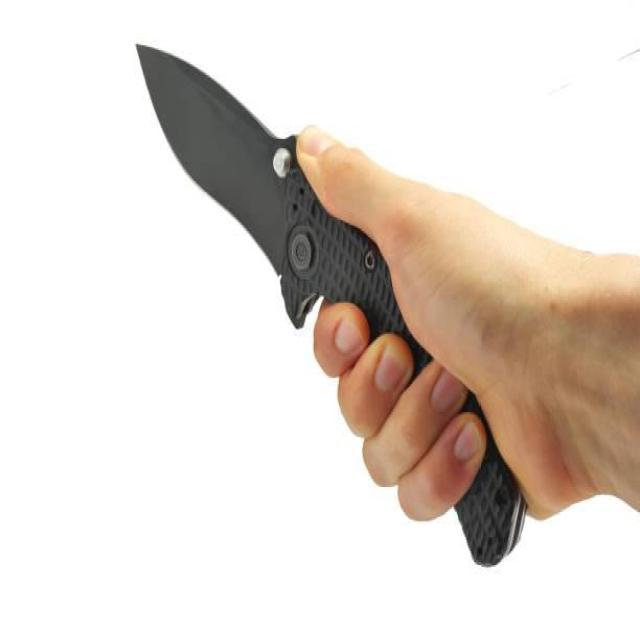faca: (127, 28, 568, 579)
